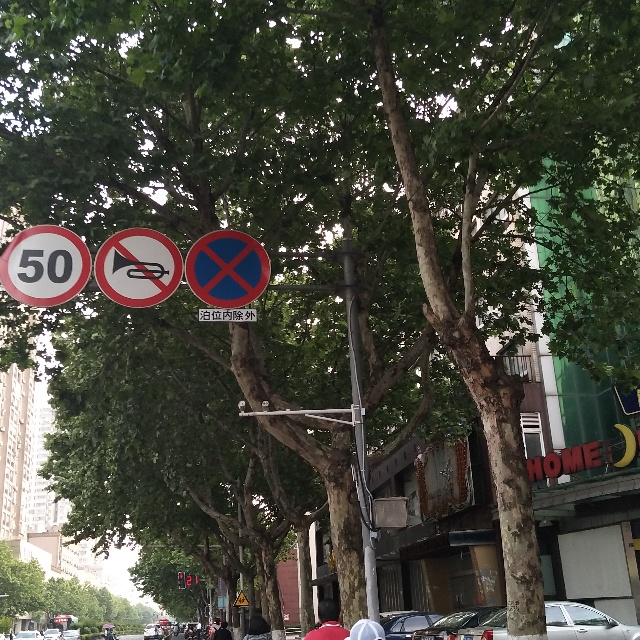nohonk: (102, 226, 176, 305)
stop: (191, 233, 264, 305)
